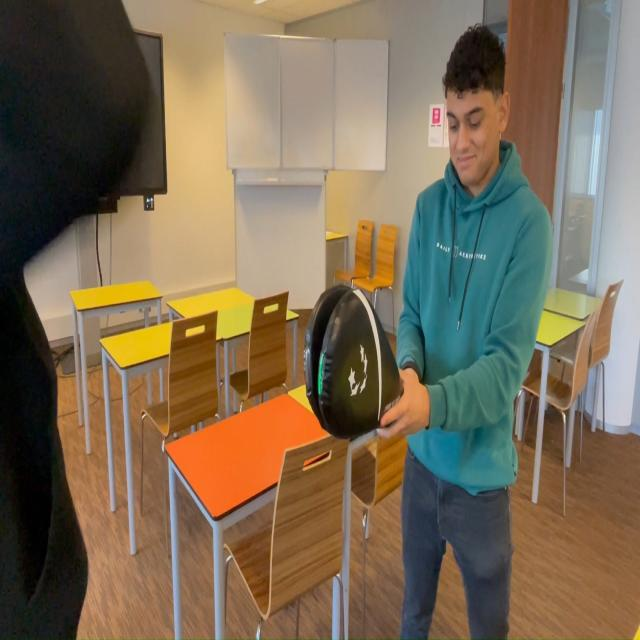paddle: (308, 286, 397, 430)
trigger: (317, 347, 326, 397)
